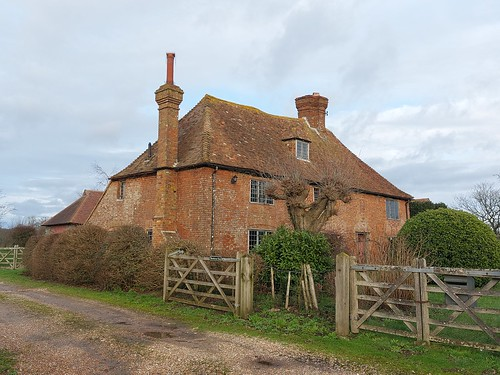medium: (41, 80, 414, 322)
